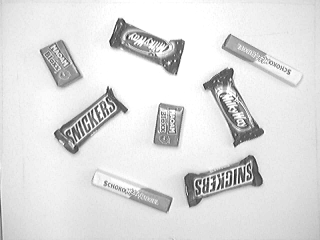Maoam: (37, 37, 86, 90), (150, 100, 186, 151)
Milkyway: (201, 63, 266, 150), (107, 15, 188, 79)
Riegel: (220, 31, 305, 92), (89, 166, 176, 217)
Snickers: (49, 83, 131, 157), (181, 152, 265, 211)
